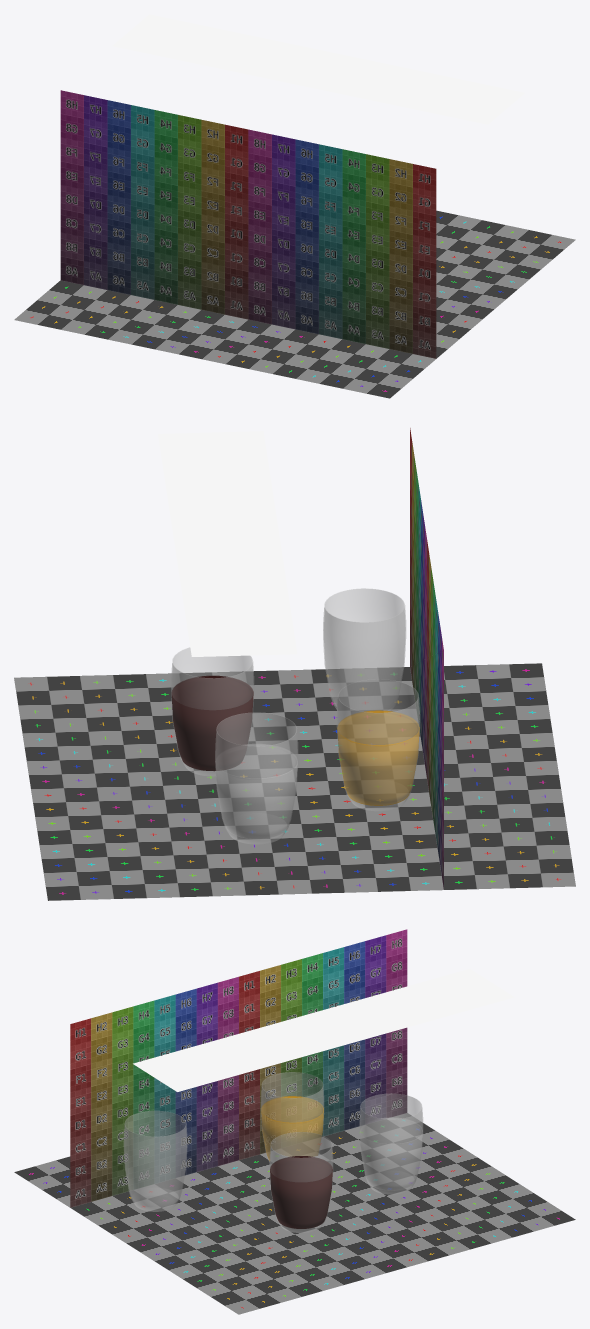
Rendered from drink.glb.
3 views of the same model, one above another, from view 1: azimuth 30°, elevation 25°; view 2: azimuth 150°, elevation 25°; view 3: azimuth 270°, elevation 25° (orthographic). The views are drawn at different scales.
Parts seen in each view (by area): view 1: back, floor, Plane; view 2: floor, Plane, glass.001, glass, glass.003, back, glass.002, water.002, water.001, water; view 3: back, floor, Plane, glass, glass.003, glass.002, water.002, glass.001, water.001, water.
Part boxes in pixels (x1,y1,x2,y2): back: (60,90,436,358); floor: (14,210,575,398); Plane: (112,14,524,124); floor: (14,663,575,900); Plane: (158,431,297,656); glass.001: (337,679,419,810); glass: (215,712,297,844); glass.003: (323,588,405,711); back: (410,428,443,888); glass.002: (171,647,253,776); water.002: (171,675,253,771); water.001: (337,710,419,805); water: (216,744,297,838); back: (70,929,407,1207); floor: (14,1113,575,1314); Plane: (133,969,514,1091); glass: (359,1093,422,1194); glass.003: (124,1111,187,1211); glass.002: (269,1132,332,1232); water.002: (270,1156,332,1228); glass.001: (261,1072,323,1161); water.001: (261,1096,323,1160); water: (360,1117,422,1190).
Bounding box in the file's own units: 1.39 × 0.5 × 1.39.
7 materials, 2 textured.
